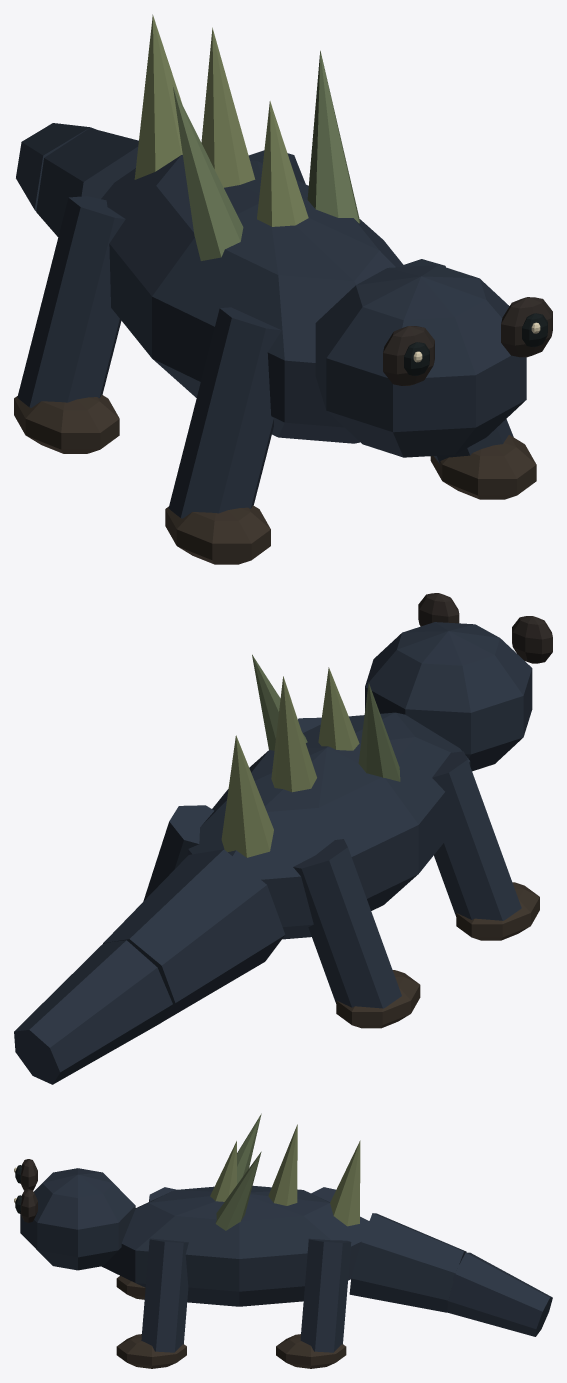
Rendered from fauna-reedback_stalker.glb.
3 views of the same model, one above another, from view 1: azimuth 30°, elevation 25°; view 2: azimuth 150°, elevation 25°; view 3: azimuth 270°, elevation 25° (orthographic). The views are drawn at different scales.
Parts seen in each view (by area): view 1: Fauna_reedback_stalker; view 2: Fauna_reedback_stalker; view 3: Fauna_reedback_stalker.
Boxes of the visible parts, x1=… form: Fauna_reedback_stalker: x1=14, y1=14, x2=552, y2=564; Fauna_reedback_stalker: x1=14, y1=593, x2=552, y2=1084; Fauna_reedback_stalker: x1=14, y1=1113, x2=552, y2=1368.
Bounding box in the file's own units: 0.9444 × 1.02 × 2.41.
